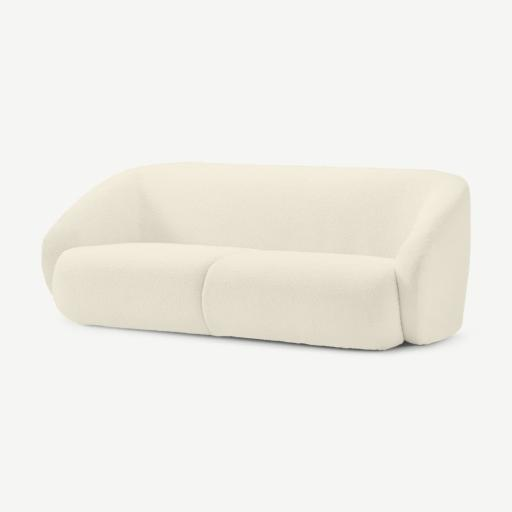back_cushion: (139, 164, 431, 257)
left_arm: (395, 180, 470, 344)
right_arm: (42, 170, 141, 293)
seat_cushion: (52, 243, 401, 349)
two-seater: (0, 0, 511, 512)
